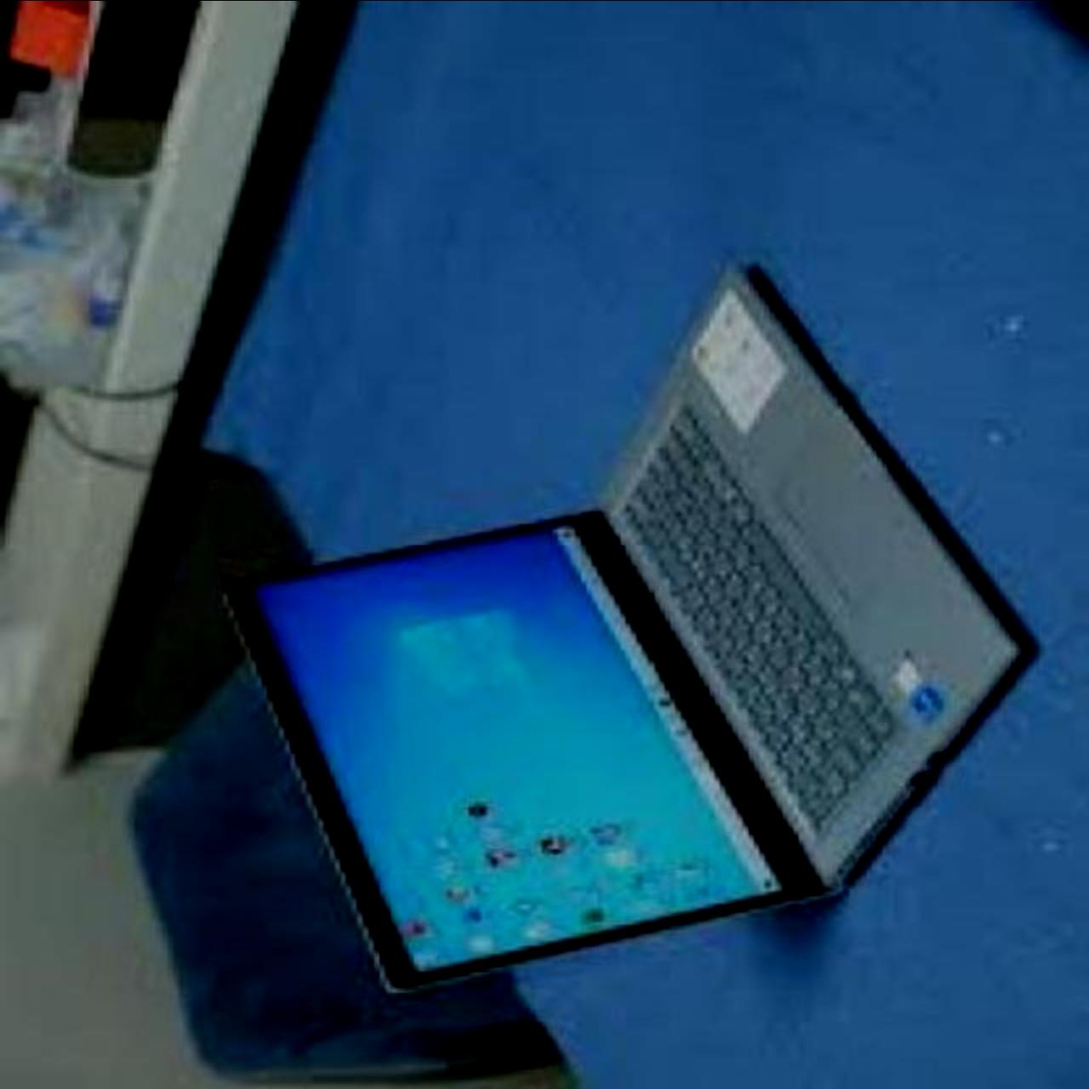laptop: (251, 227, 1049, 1035)
